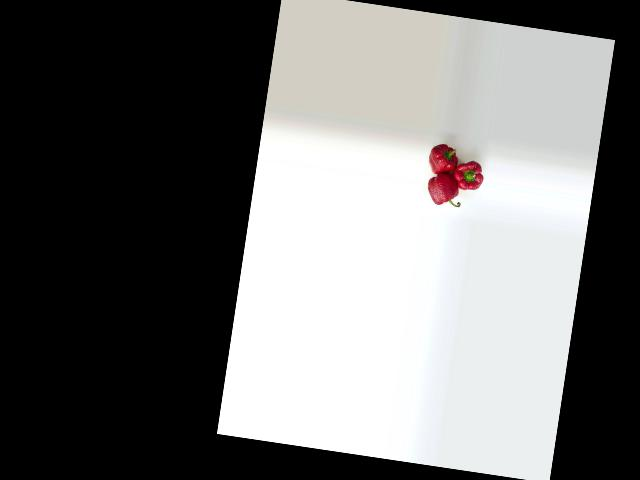bell_pepper: (422, 173, 466, 215)
